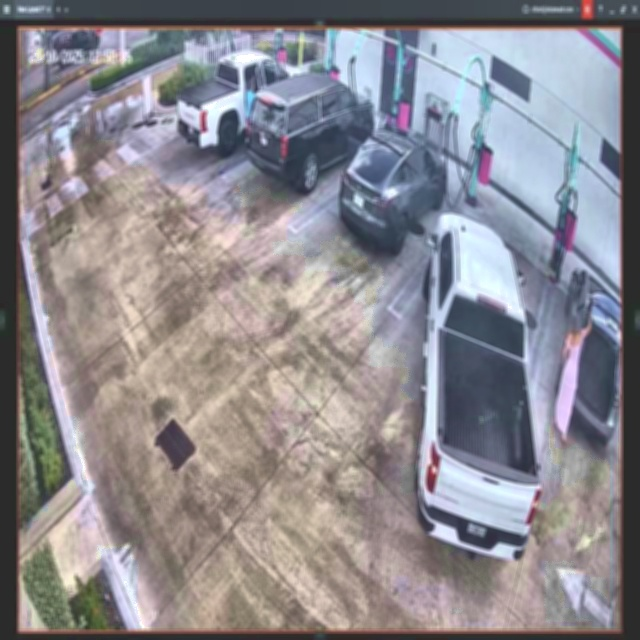Car: (417, 211, 542, 563), (249, 74, 373, 186), (340, 127, 447, 251), (178, 50, 300, 157)
